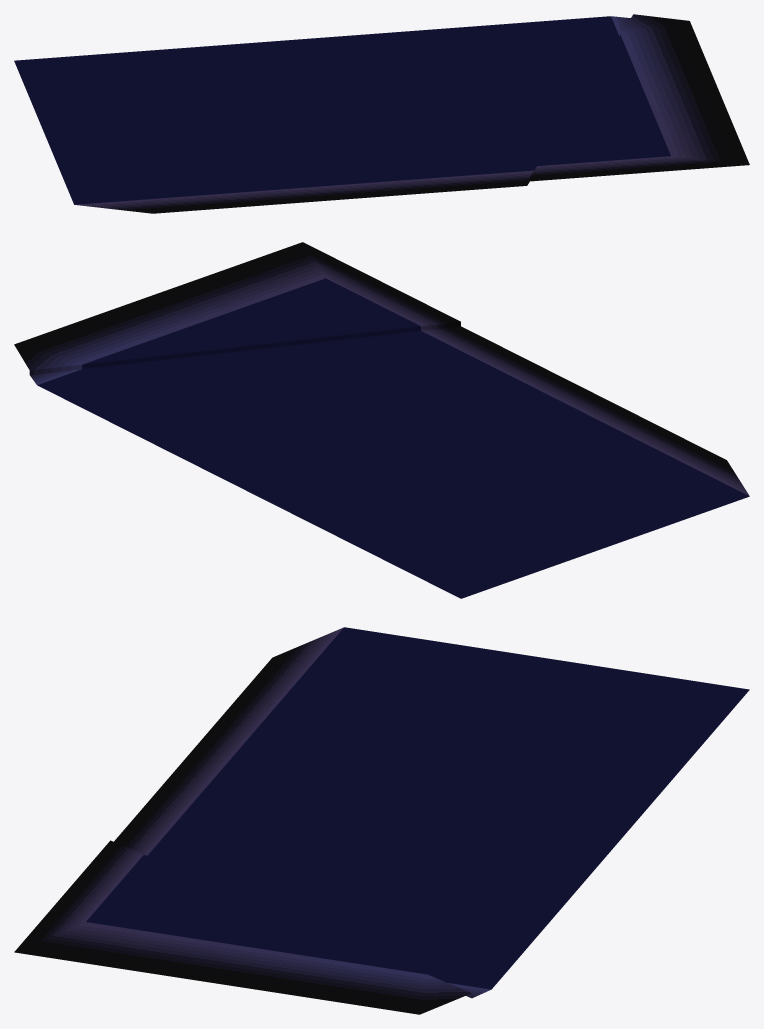
The picture shows the model from 3 angles, top to bottom: view 1: azimuth 30°, elevation 25°; view 2: azimuth 150°, elevation 25°; view 3: azimuth 270°, elevation 25°; orthographic projection. The views are drawn at different scales.
Parts seen in each view (by area): view 1: Joint_0_Object_0; view 2: Joint_0_Object_0; view 3: Joint_0_Object_0.
Boxes of the visible parts, <box> form: Joint_0_Object_0: <box>14,14,749,213</box>; Joint_0_Object_0: <box>14,242,749,598</box>; Joint_0_Object_0: <box>14,627,749,1014</box>.
Bounding box in the file's own units: 646 × 4 × 511.
1 material, 1 textured.
